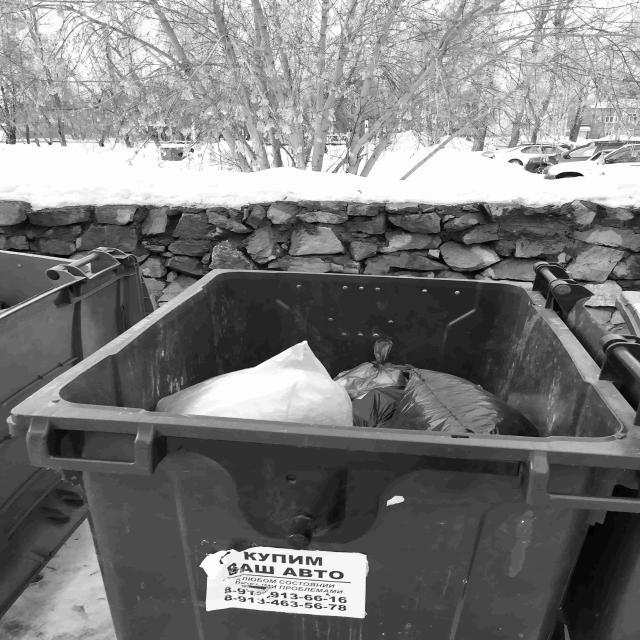Trashcan: (16, 188, 640, 640)
